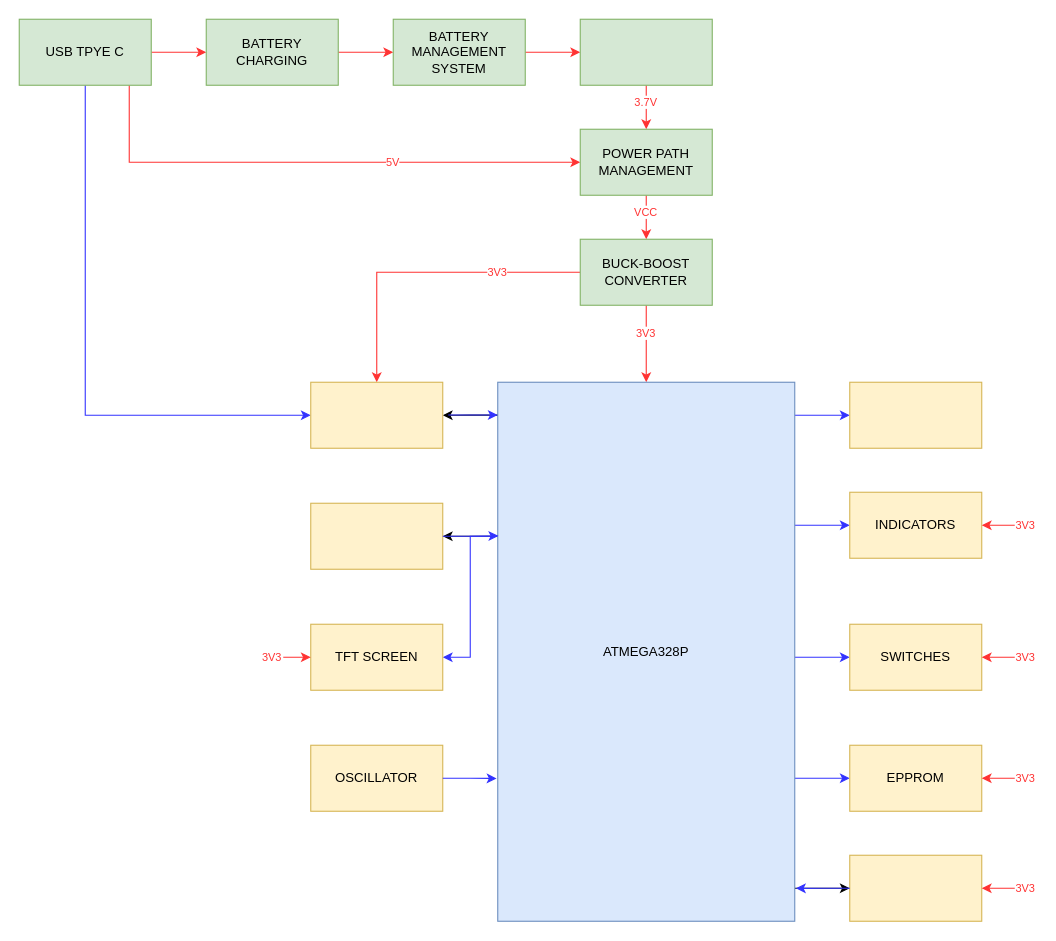
The diagram is 1056 pixels wide and 941 high, and some of its shapes have lost their labels. Here are the shapes that lost their labels. From the top down, the box of each, then its label:
(579, 18, 712, 85): BATTERY
(310, 381, 443, 448): USB TO UART CONVERTER
(849, 381, 982, 448): CONNECTORS
(310, 502, 443, 569): ICSP CONNECTOR
(849, 854, 982, 921): RAK3172
